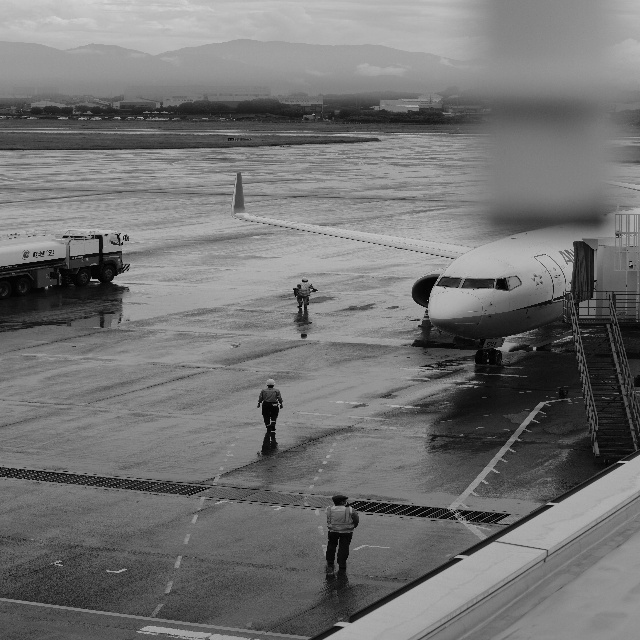Guantes: (271, 403, 278, 407)
Mascara: (342, 501, 347, 506)
